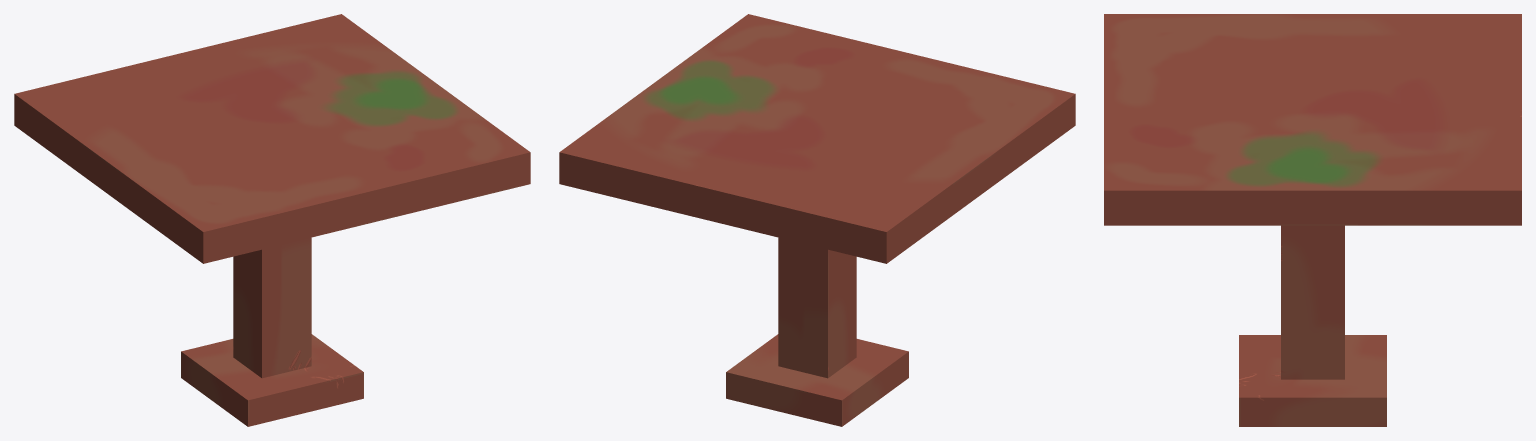
Rendered from table.fbx.
3 views of the same model, side by side, from view 1: azimuth 30°, elevation 25°; view 2: azimuth 150°, elevation 25°; view 3: azimuth 270°, elevation 25° (orthographic). The views are drawn at different scales.
Parts seen in each view (by area): view 1: Table; view 2: Table; view 3: Table.
Part boxes in pixels (x1,y1,x2,y2): Table: (14,14,530,426); Table: (559,14,1075,426); Table: (1104,14,1521,426).
Bounding box in the file's own units: 348 × 270 × 348.
